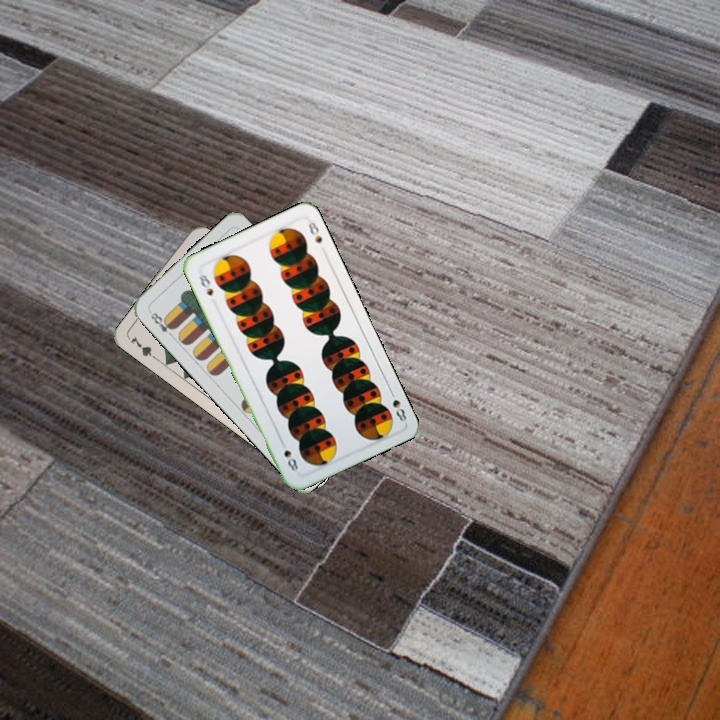E8: (145, 307, 177, 340)
G7: (126, 332, 161, 363)
S8: (386, 385, 409, 424), (195, 270, 216, 298)
